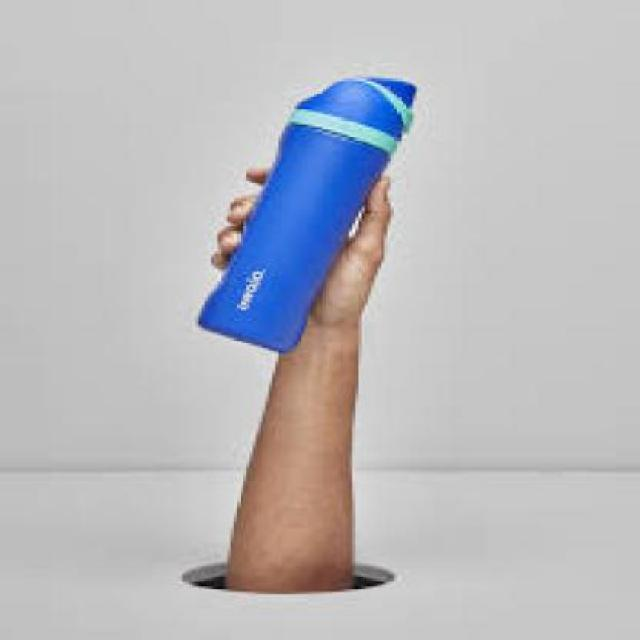Drinking: (215, 48, 410, 361)
